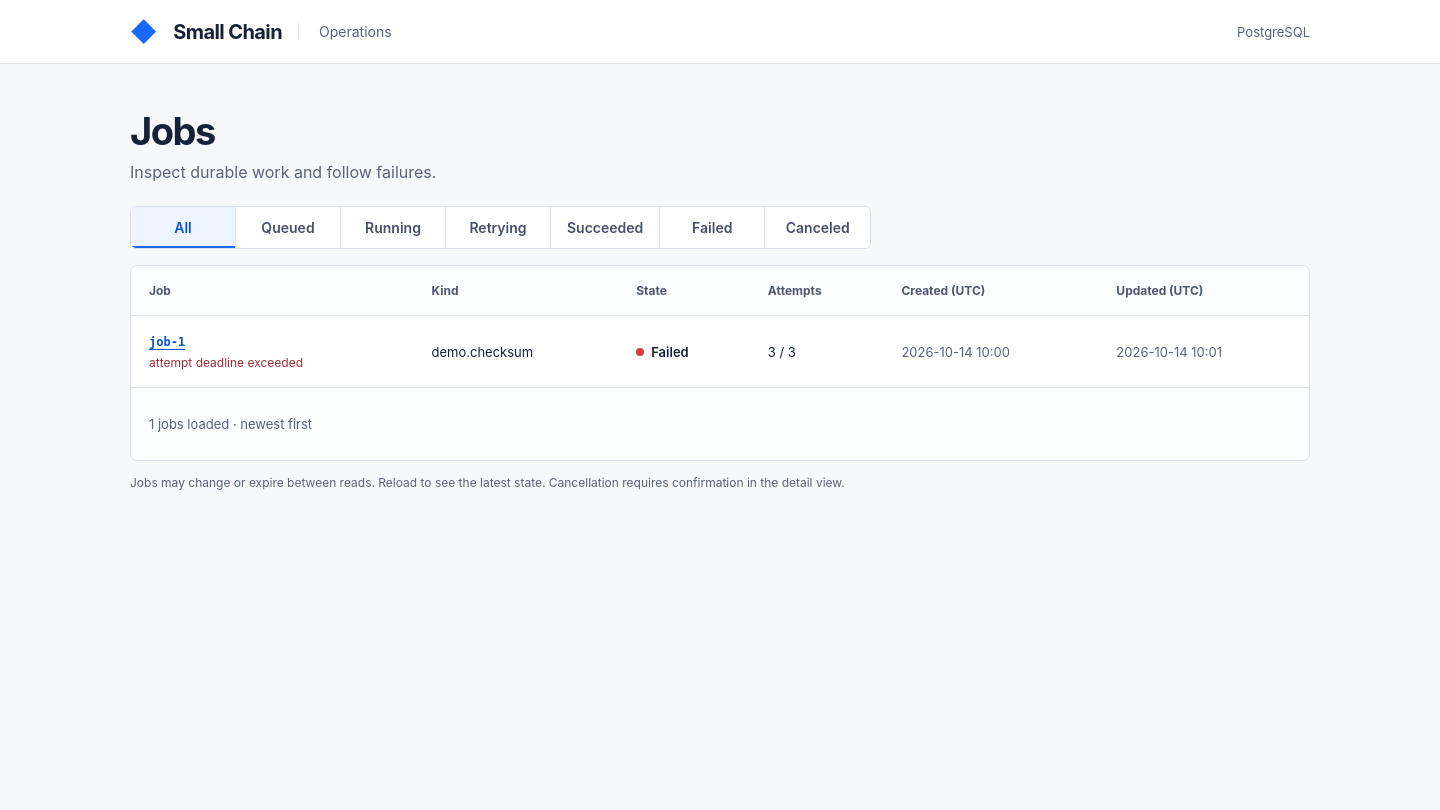
Test case: operations console › opens a selected job's snapshot and history, then closes the detail view
Click the button "job-1" at (167, 341), box [149, 333, 185, 349]
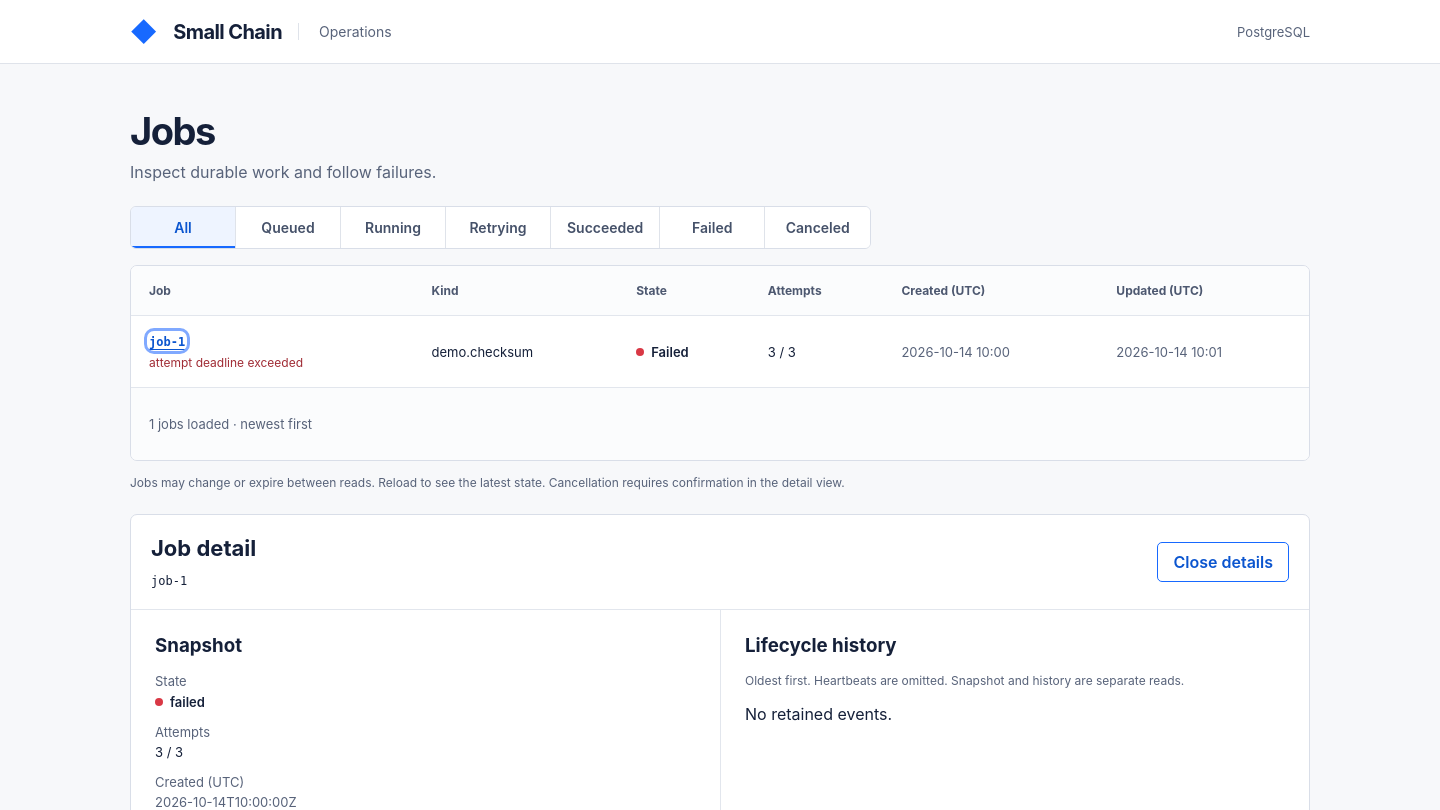
Now the text "No retained events." is shown, box [745, 704, 892, 724]
Click the button "Close details" at (1223, 562), box [1158, 542, 1289, 582]
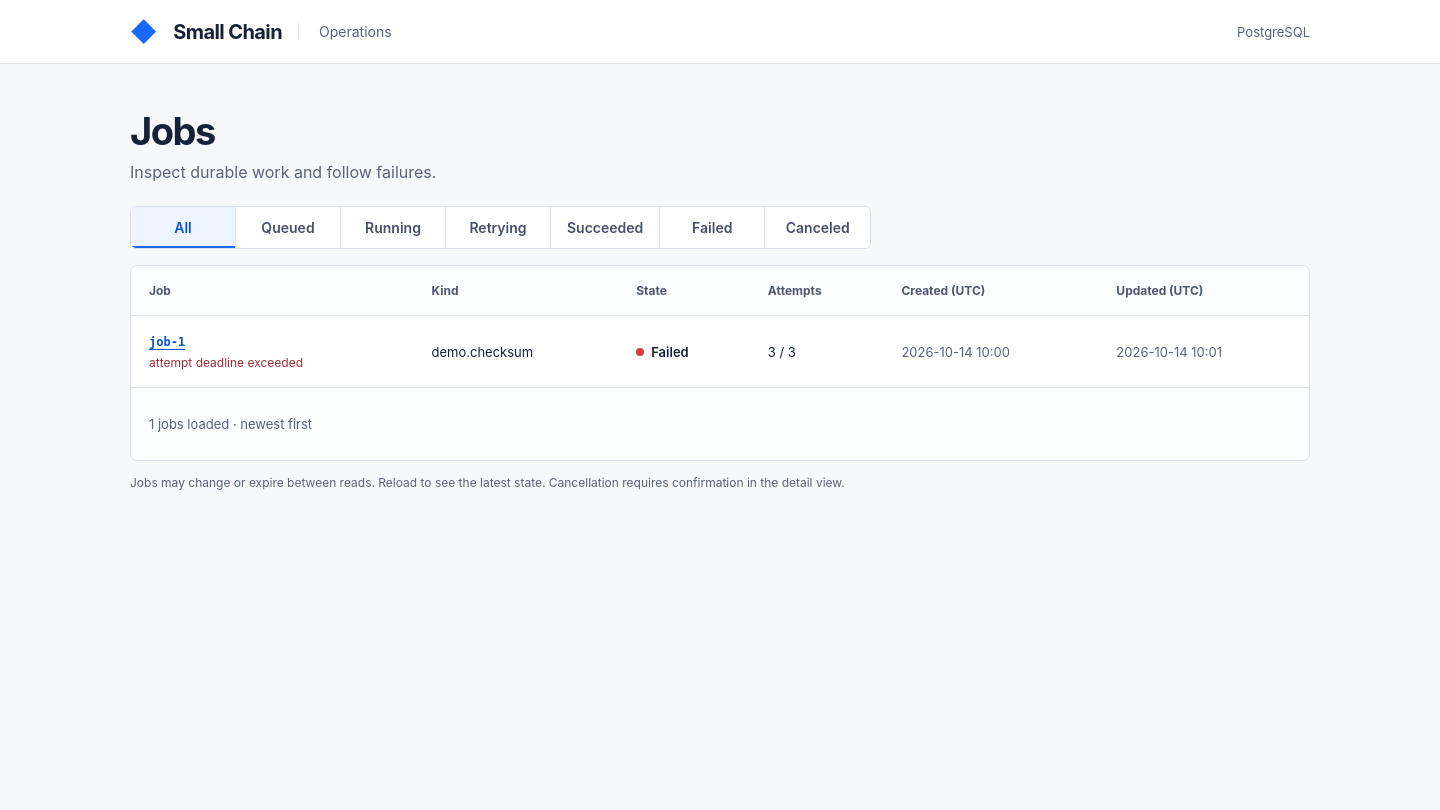
Now the heading "Job detail" is gone
